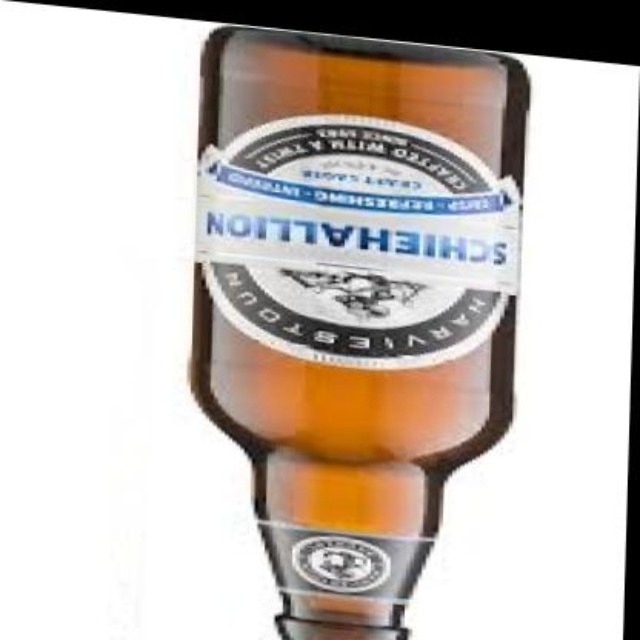trash: (191, 28, 528, 638)
